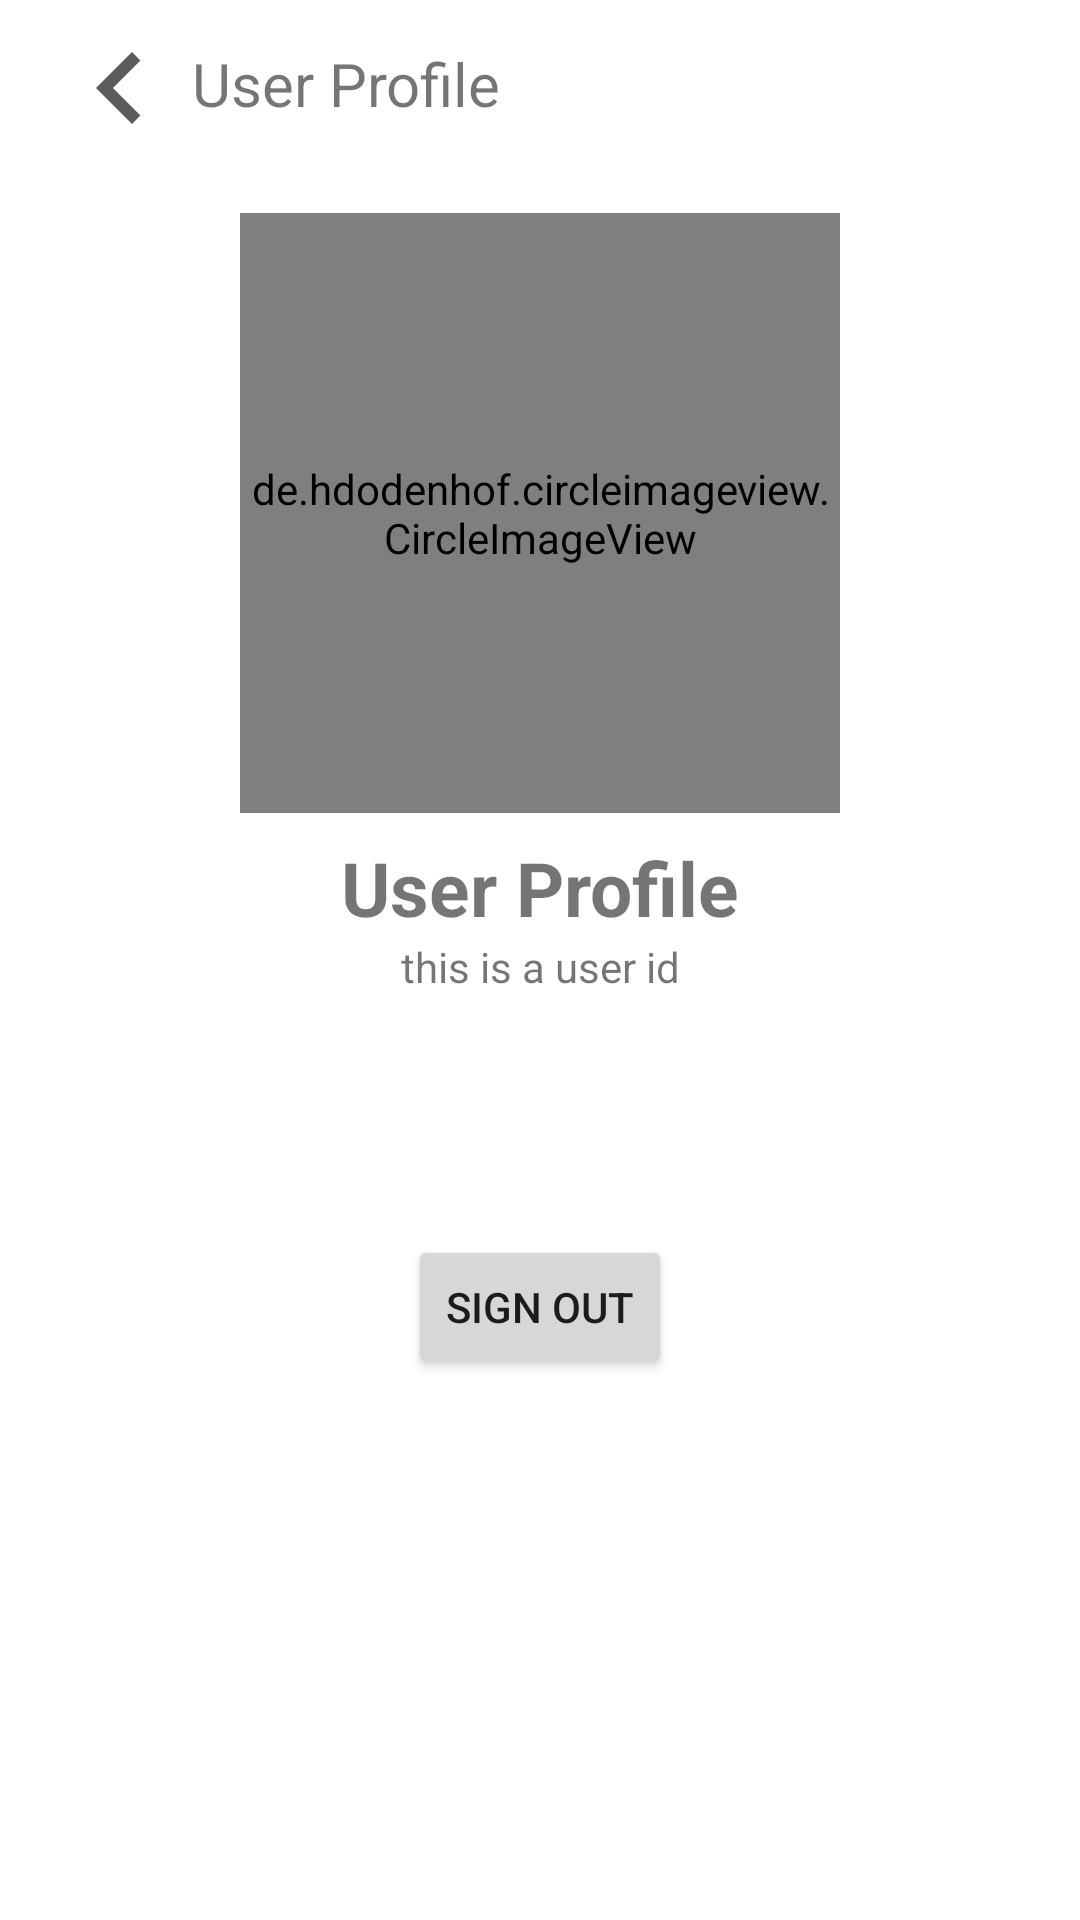

Point at icon controls on the screen. Image size 1080px x 1920px, points as [x,y].
keyboard arrow left: [118,88]
